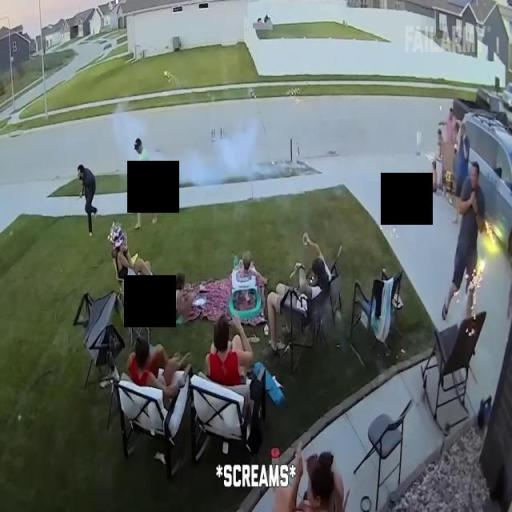Fall: (169, 267, 205, 328)
